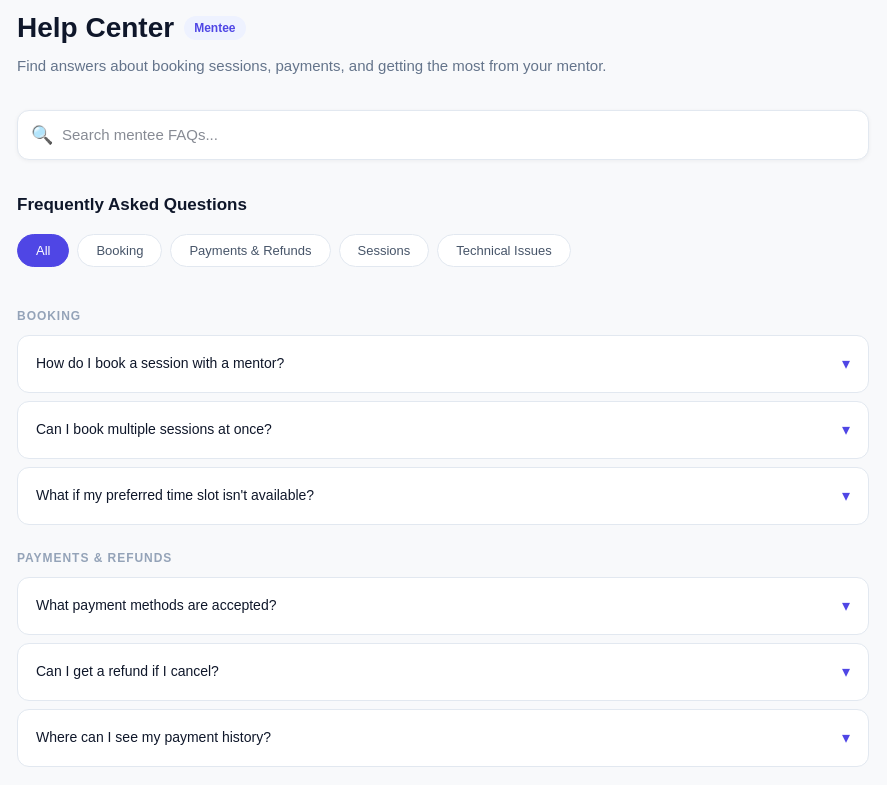
it: HelpCenter Component Suite › should toggle a FAQ item open and closed on click
Click the button "How do I book a session with a mentor? ▾". click: (160, 363)
box: [18,336,868,392]
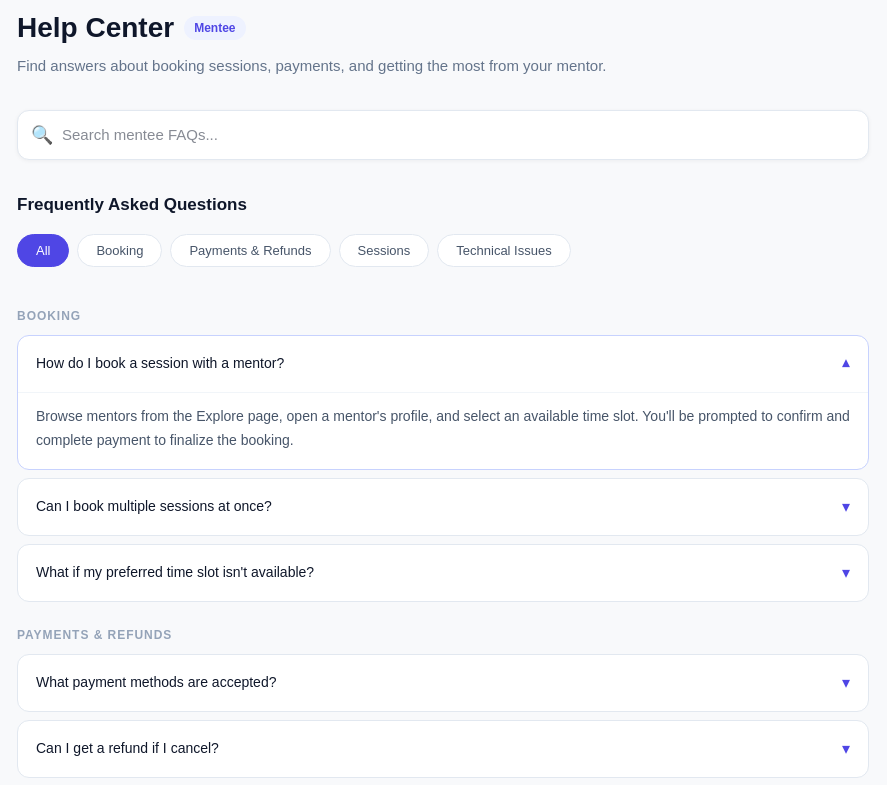
Expected: the text "Browse mentors from the Explore page" is shown, [36,408,850,448]
Click the button "How do I book a session with a mentor? ▾". click: (160, 363)
box: [18,336,868,392]
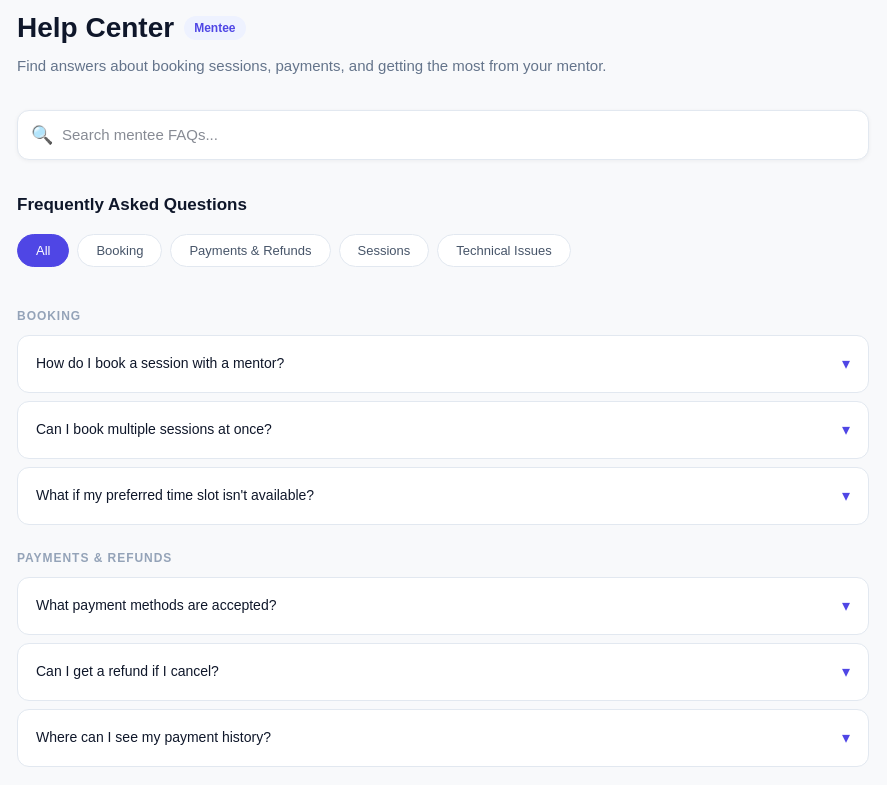
Expected: the text "Browse mentors from the Explore page" is gone
